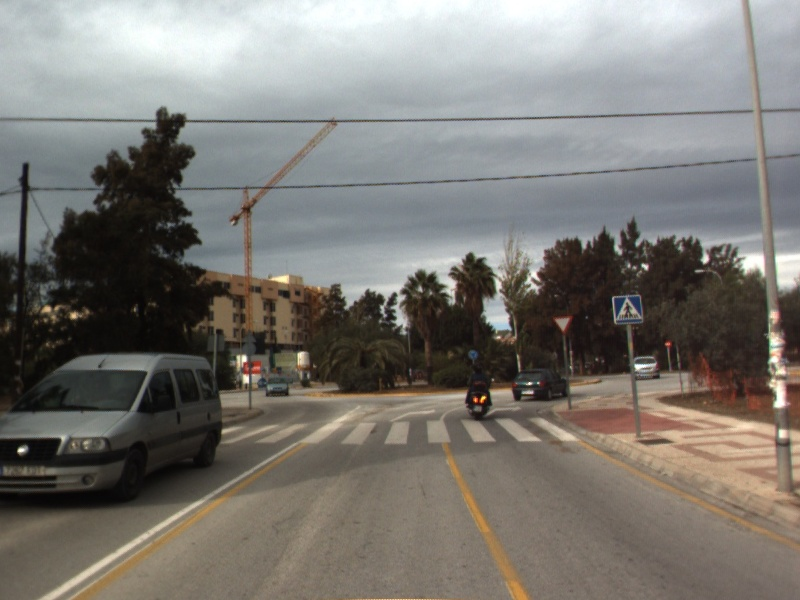RIGHT: (388, 407, 438, 424), (483, 404, 524, 418)
